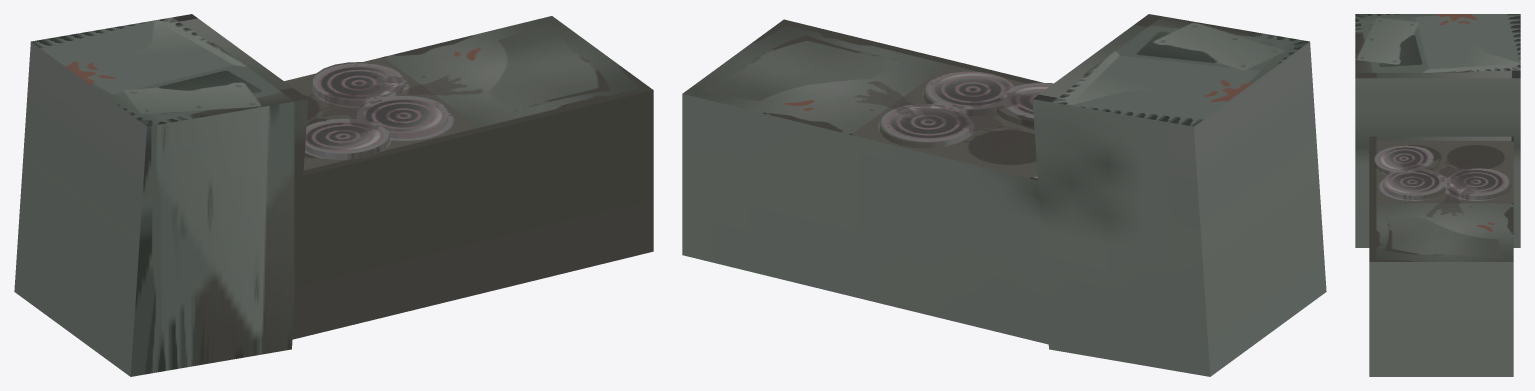
The model's file is Building_AncientTableStoveFueled.glb.
3 views of the same model, side by side, from view 1: azimuth 30°, elevation 25°; view 2: azimuth 150°, elevation 25°; view 3: azimuth 270°, elevation 25° (orthographic). The views are drawn at different scales.
Visible parts, largest first — view 1: AncientTableStoveFueled; view 2: AncientTableStoveFueled; view 3: AncientTableStoveFueled.
Part boxes in pixels (x1,y1,x2,y2): AncientTableStoveFueled: (14,14,653,376); AncientTableStoveFueled: (682,14,1326,376); AncientTableStoveFueled: (1355,14,1520,376).
Size of the model in its own units: 2.94 by 1.36 by 1.11.
Materials: 1 (1 with a texture image).
